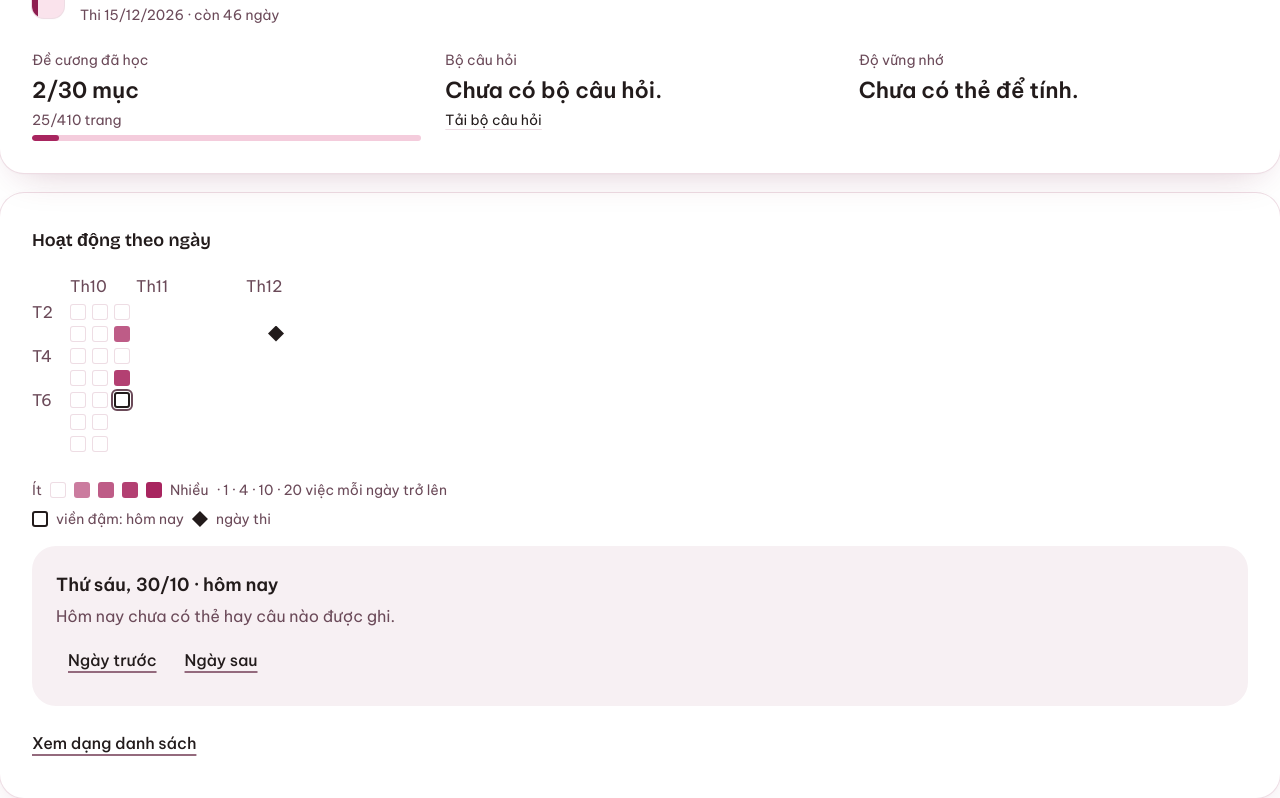
it: activity grid › AC4: Ngày trước and Ngày sau move the pinned day
(page scrolled)
Expected: the element that starts with "Thứ sáu, 30/10" shows "hôm nay", x1=190 y1=573 x2=278 y2=596
Click the button "Ngày trước" at (112, 660), box x1=56 y1=638 x2=168 y2=682
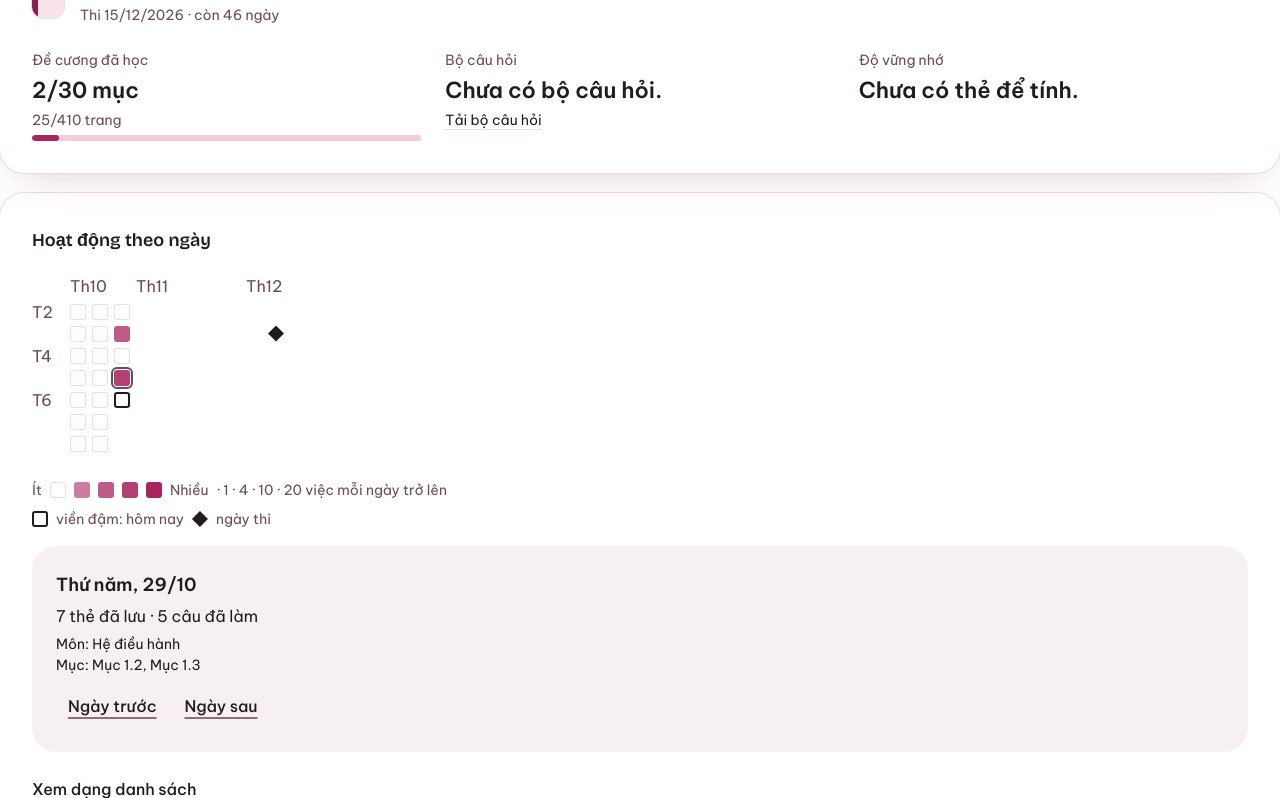
Expected: the text "hôm nay" is not shown
Expected: the element that starts with "Thứ năm, 29/10" is shown, x1=56 y1=573 x2=196 y2=596
Click the button "Ngày sau" at (221, 706), box x1=172 y1=684 x2=270 y2=728
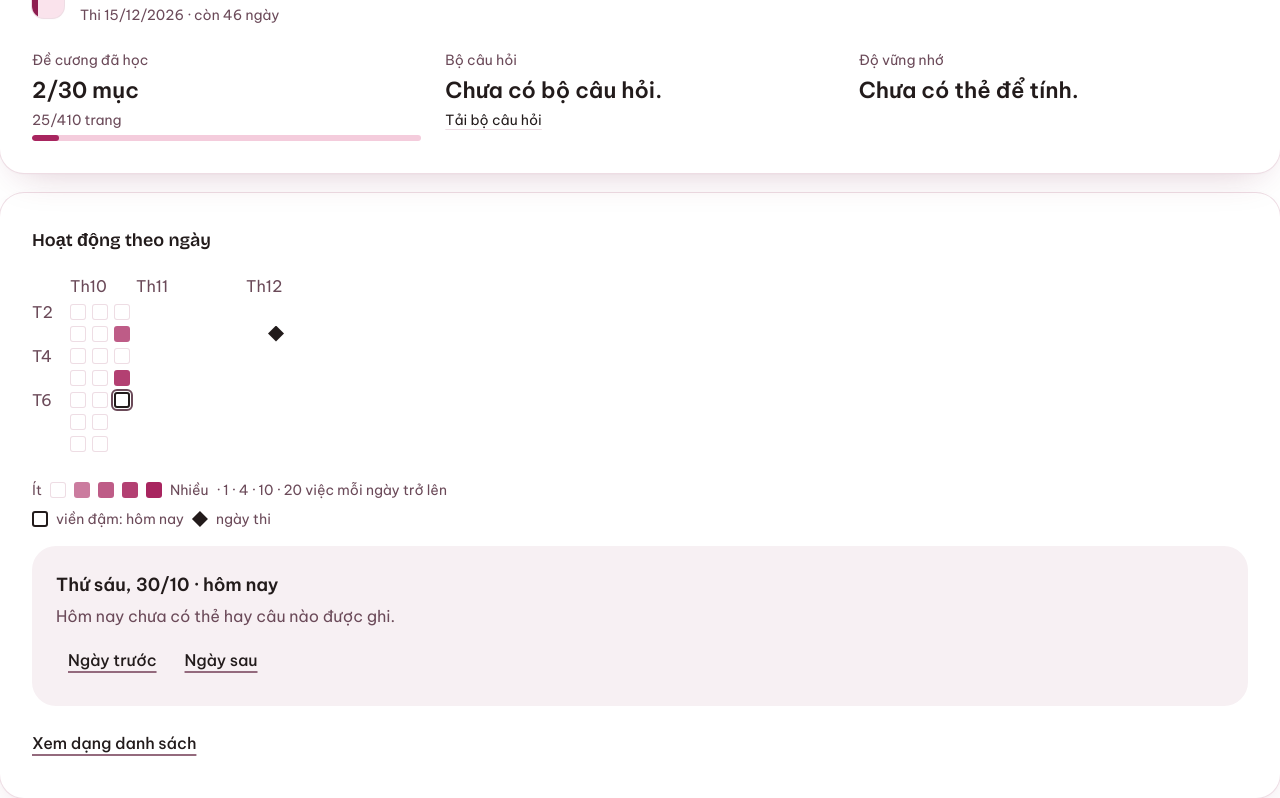
Expected: the element that starts with "Thứ sáu, 30/10" shows "hôm nay", x1=190 y1=573 x2=278 y2=596
